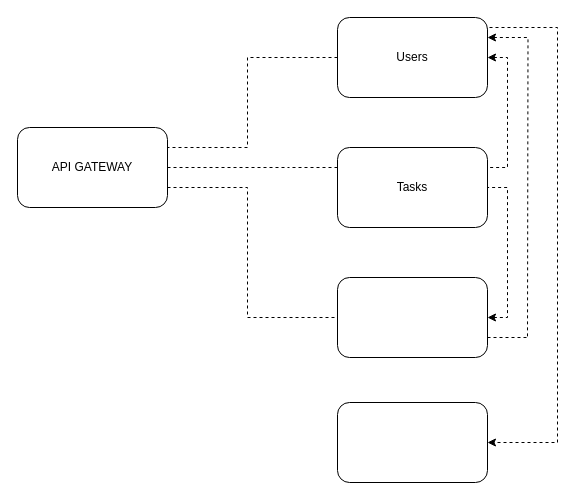
This 583x500 diagram has some shape labels left out. Each missing label, with the centre of its shape:
"Comments" belongs at point (412, 317).
"Notify" belongs at point (412, 442).
